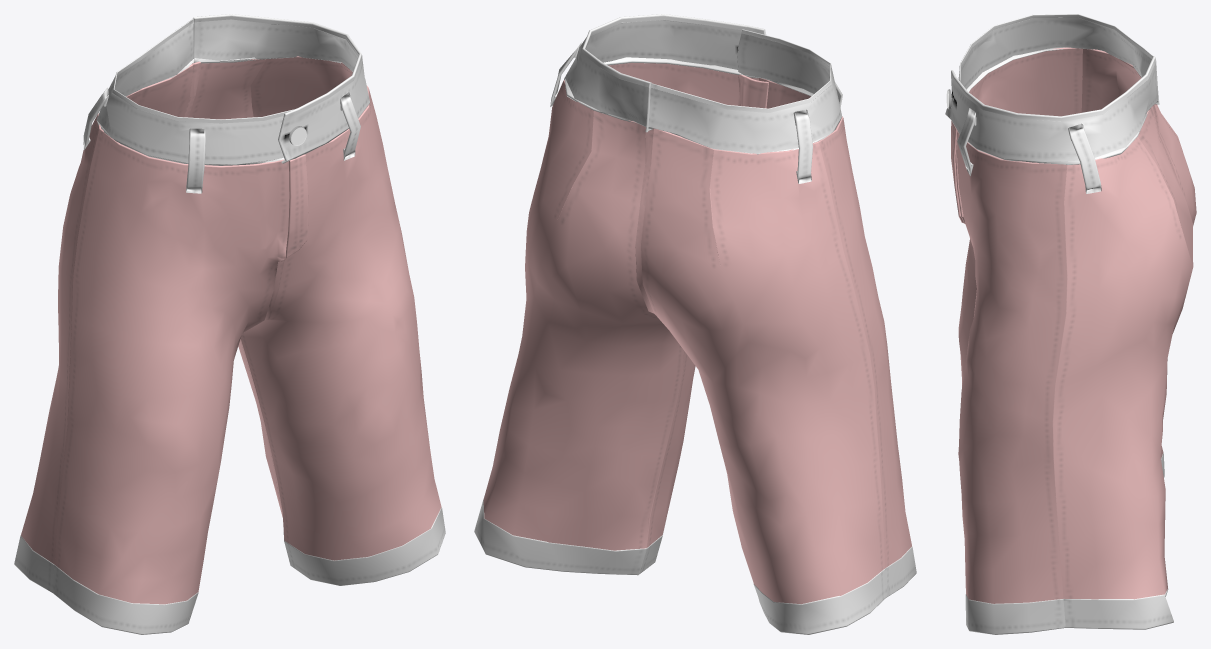
The picture shows the model from 3 angles, left to right: view 1: azimuth 30°, elevation 25°; view 2: azimuth 150°, elevation 25°; view 3: azimuth 270°, elevation 25°; orthographic projection. The views are drawn at different scales.
Parts seen in each view (by area): view 1: Model_Shorts; view 2: Model_Shorts; view 3: Model_Shorts.
Boxes of the visible parts, box(x1,y1,x2,y2) form: Model_Shorts: box(14, 14, 445, 634); Model_Shorts: box(474, 14, 916, 634); Model_Shorts: box(945, 14, 1196, 634).
Size of the model in its own units: 4.03 by 5.55 by 2.39.
Materials: 3 (2 with a texture image).
